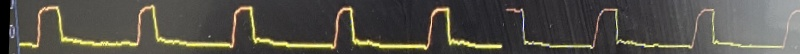normal_pressure: (13, 0, 800, 54)
